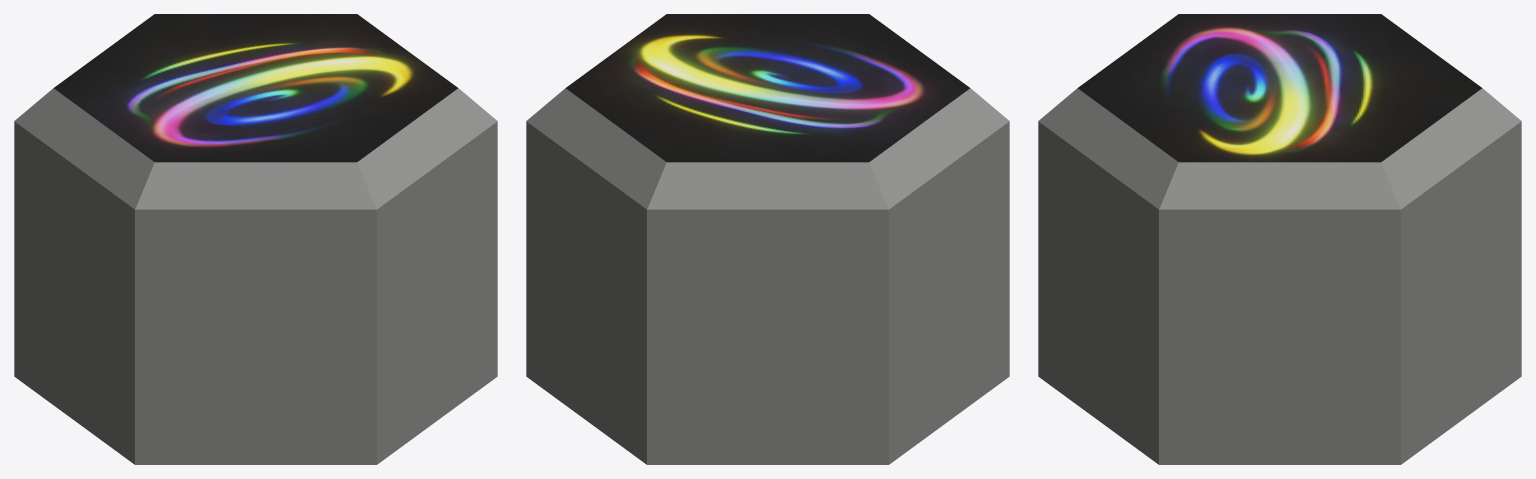
The model's file is ConfuseTrap.obj.
3 renders of one model, left to right at view 1: azimuth 30°, elevation 25°; view 2: azimuth 150°, elevation 25°; view 3: azimuth 270°, elevation 25°, orthographic.
Visible parts, largest first — view 1: 円柱; view 2: 円柱; view 3: 円柱.
Boxes of the visible parts, x1,y1,x2,y2 form: 円柱: [14, 14, 497, 464]; 円柱: [526, 14, 1009, 464]; 円柱: [1038, 14, 1521, 464].
Bounding box in the file's own units: 1.73 × 1.32 × 2.
Materials: 2 (1 with a texture image).
